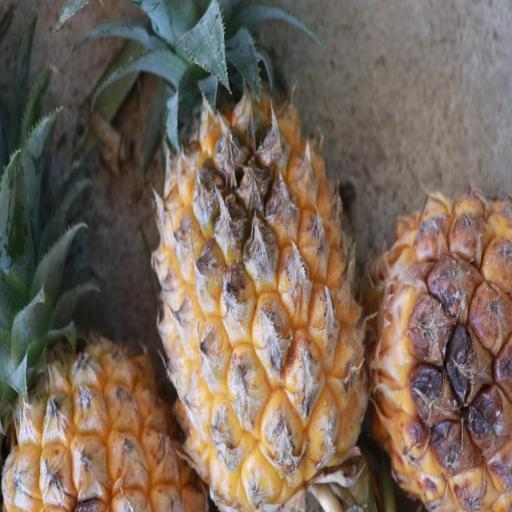Pineapple - v8 v1: (152, 42, 371, 512), (0, 187, 206, 512), (366, 175, 512, 511)
